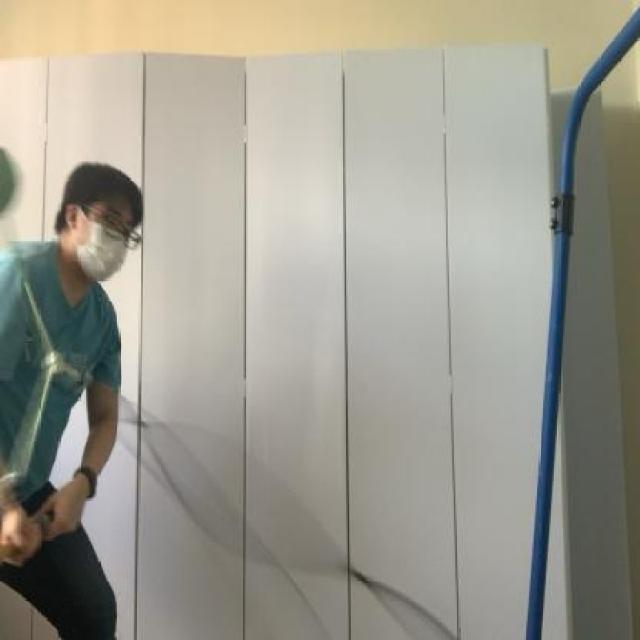baseball: (0, 120, 37, 228)
